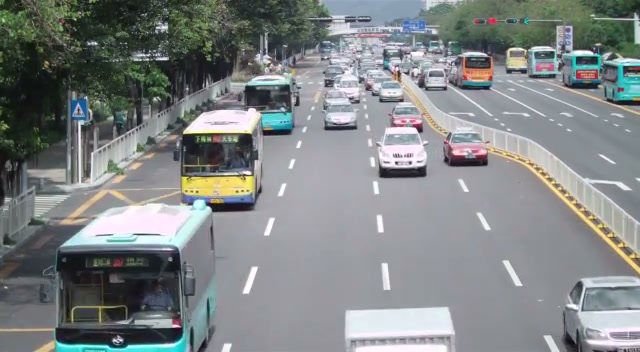bus: (44, 200, 218, 352), (179, 107, 265, 210), (243, 74, 295, 134), (601, 58, 640, 104), (451, 51, 494, 89), (561, 50, 602, 88), (527, 46, 559, 80), (505, 48, 528, 74)
car: (561, 276, 640, 352), (376, 126, 427, 177), (442, 129, 489, 166), (323, 99, 358, 130), (388, 103, 424, 133), (335, 76, 361, 103), (378, 81, 404, 102), (424, 69, 448, 91)
pedestrian: (141, 278, 175, 311), (227, 146, 248, 168)
truck: (527, 46, 558, 80)
